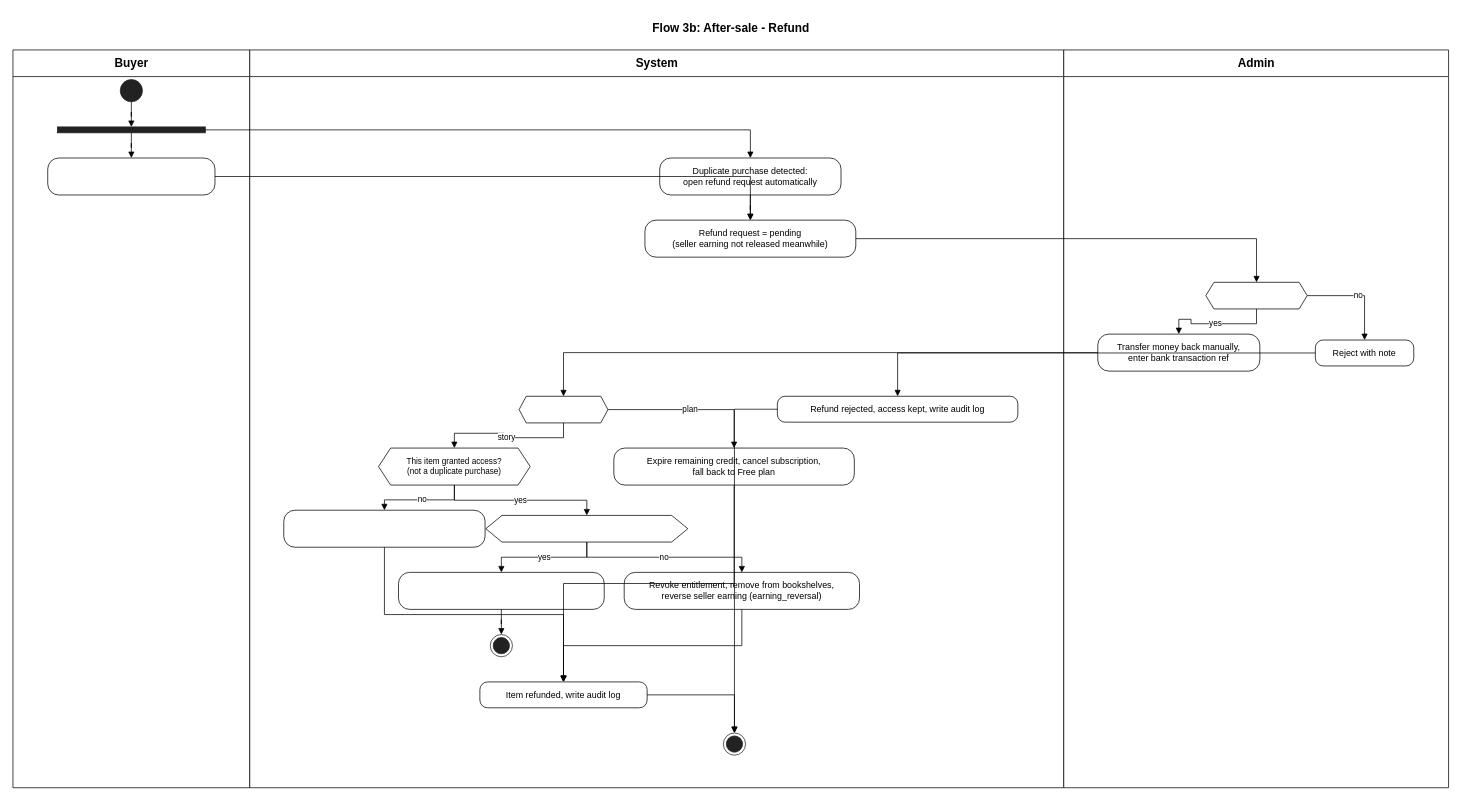
Image size: 1462x801. Some labels were removed from this diagram. Here are the shapes that lost their labels. From the top down, the centre of each, then its label:
pixel 131 176: Request refund for a paid item (within 3 days, once per item)
pixel 1256 295: Approve refund?
pixel 563 409: Item type?
pixel 384 528: Money back only: the earlier purchase keeps access and seller earning
pixel 586 528: Seller already withdrew this earning?
pixel 501 590: 422: refund stays pending, admin settles with the seller manually
